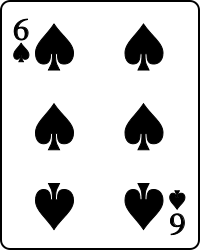six of spades: (1, 1, 199, 248)
